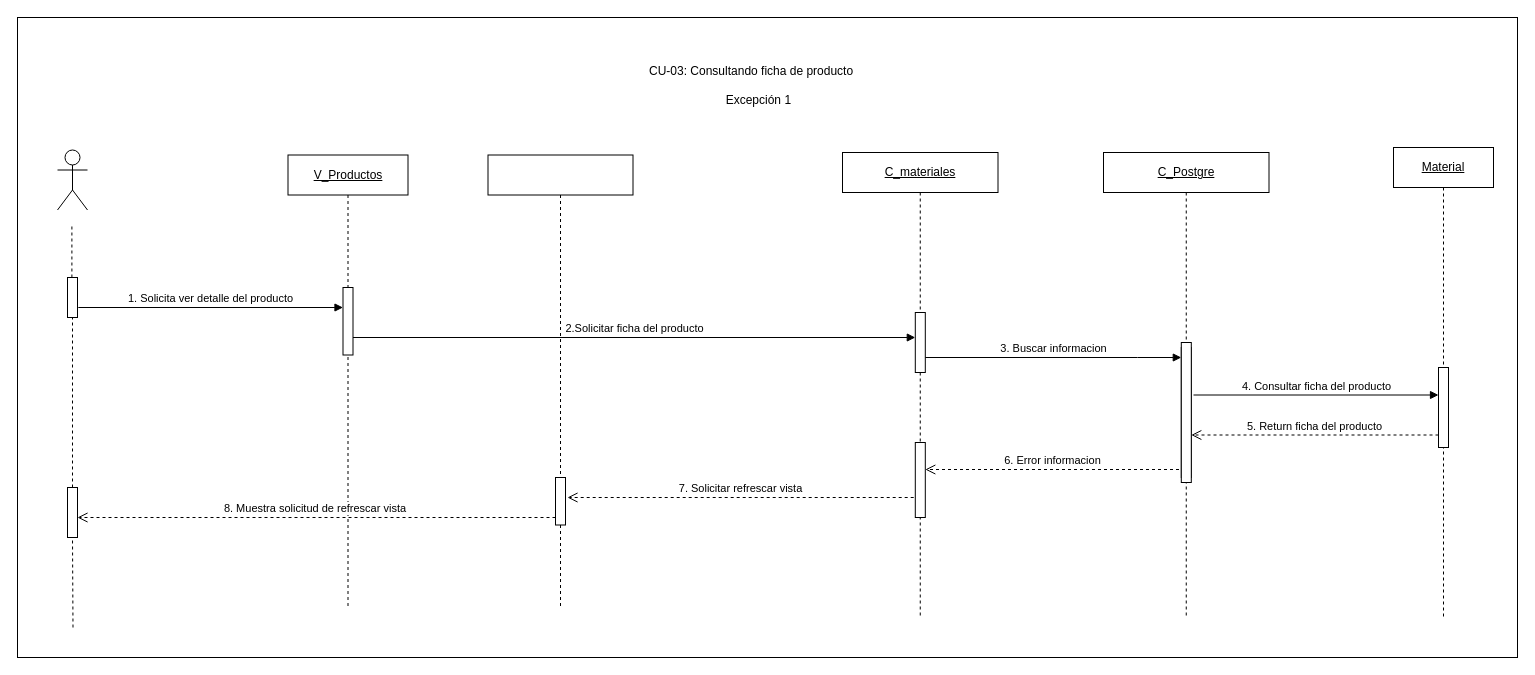
Some shapes in this 1535 by 675 pixel diagram are drawn without their labels. Here are the shapes that lost their labels. From the top down, the box of each, then its label:
(56, 149, 88, 210): Gerencia
(487, 154, 633, 608): V_DetalleProducto
